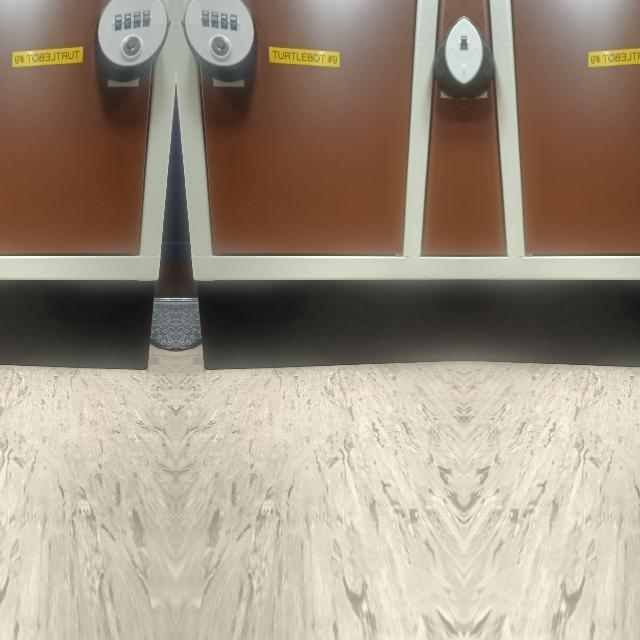obstacle: (175, 23, 462, 370), (464, 23, 640, 370), (0, 23, 174, 370)
